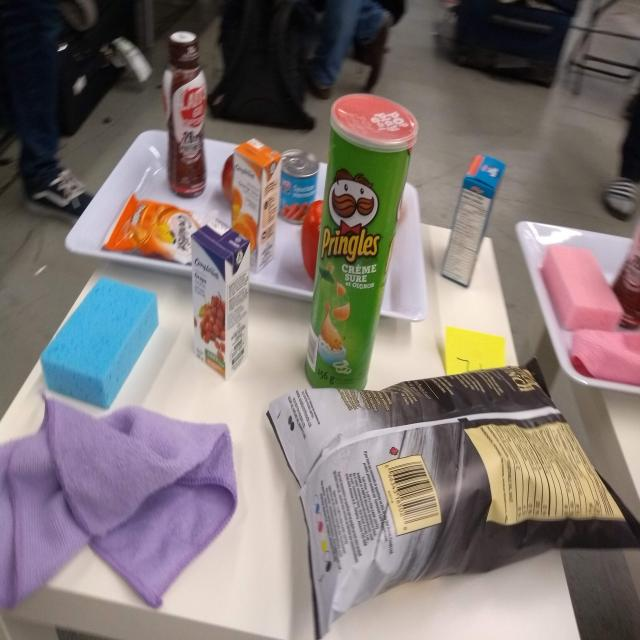cereal: (440, 151, 507, 290)
chocolate_drink: (160, 24, 208, 201)
crackers: (108, 195, 196, 263)
grape_juice: (186, 217, 253, 380)
orange_juice: (233, 137, 281, 273)
potato_chips: (271, 370, 640, 611)
pringles: (301, 92, 418, 391)
sausages: (280, 148, 319, 224)
sponge_opl: (38, 277, 160, 409)
